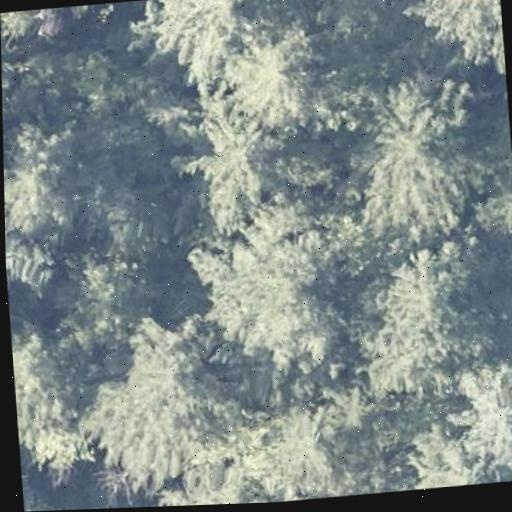tree-top: (196, 192, 374, 373), (90, 306, 256, 482), (351, 240, 502, 400), (352, 67, 480, 240), (180, 105, 296, 223), (11, 317, 84, 483), (252, 392, 359, 495), (220, 27, 325, 131), (3, 122, 98, 235), (405, 0, 505, 79), (453, 355, 512, 480), (146, 0, 236, 81), (64, 248, 147, 333), (97, 176, 174, 261), (166, 462, 277, 506), (412, 442, 504, 490), (5, 224, 64, 298), (0, 10, 33, 46), (23, 488, 66, 512)
